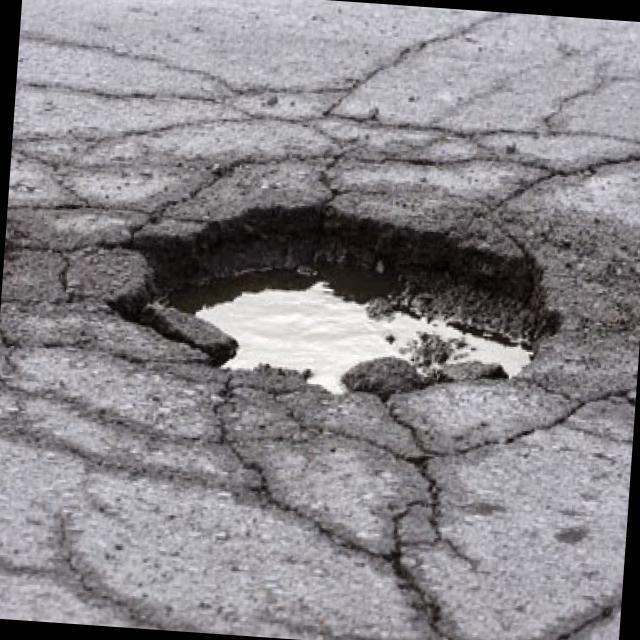Pothole: (115, 168, 572, 428)
